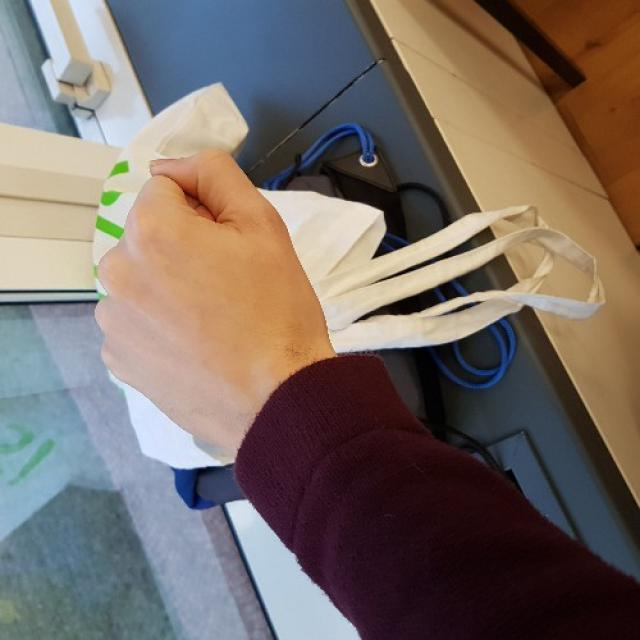rock: (92, 148, 340, 443)
